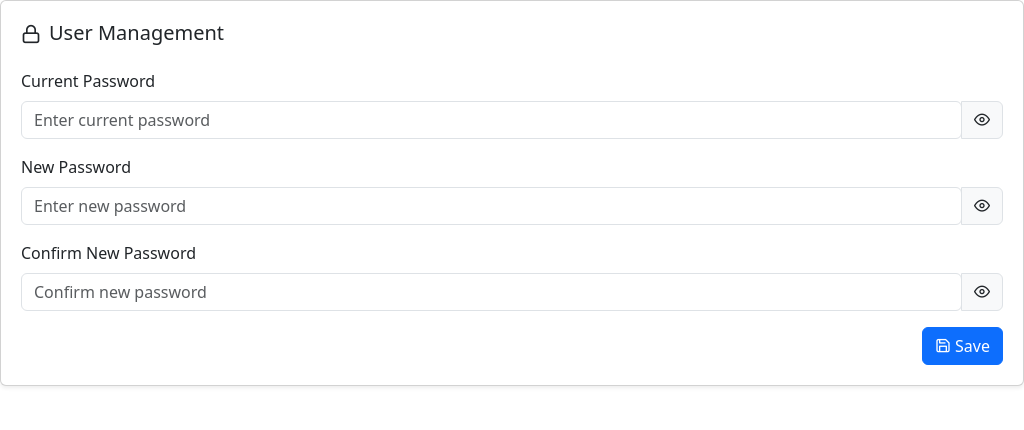
UpdateUserPasswordCard › blocks submission when the confirmation does not match the new password
Type "old-secret" into the password field labelled "Current Password".
click(492, 120); type("old-secret")  # box top-left (21, 101), bottom-right (962, 139)
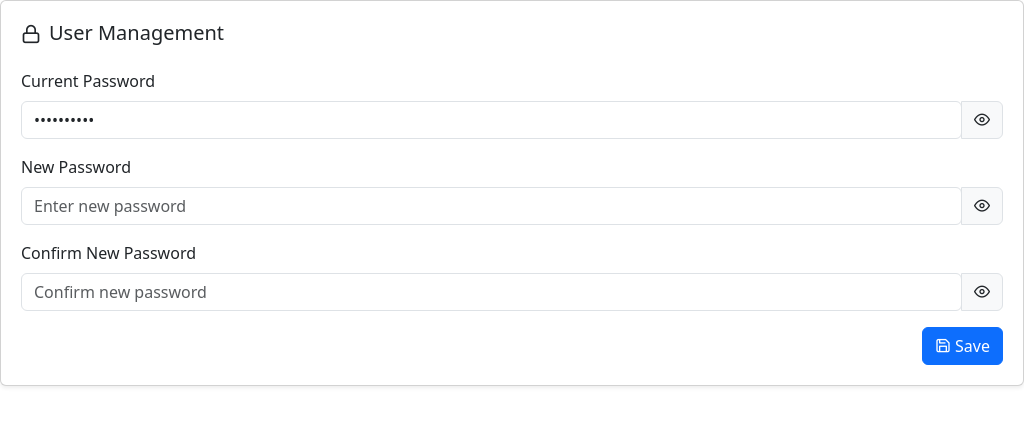
Type "new-secret" into the password field labelled "New Password".
click(492, 206); type("new-secret")  # box top-left (21, 187), bottom-right (962, 225)
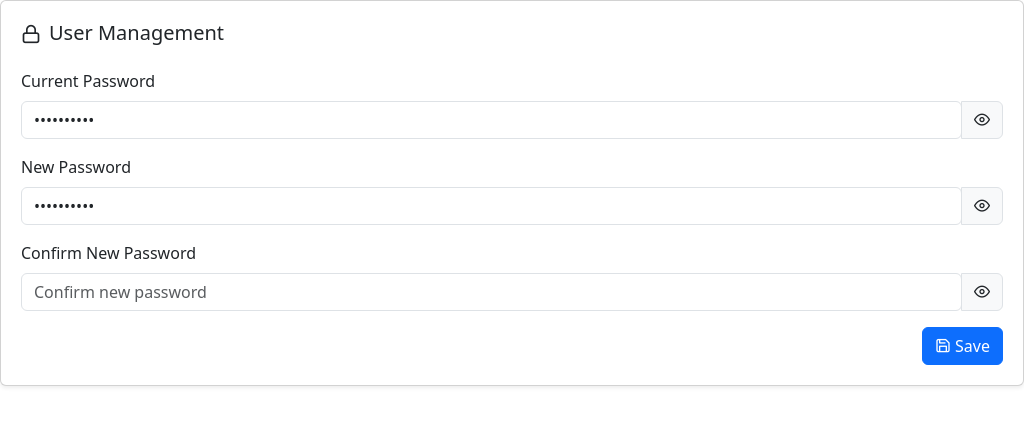
Type "something-else" into the password field labelled "Confirm New Password".
click(492, 292); type("something-else")  # box top-left (21, 273), bottom-right (962, 311)
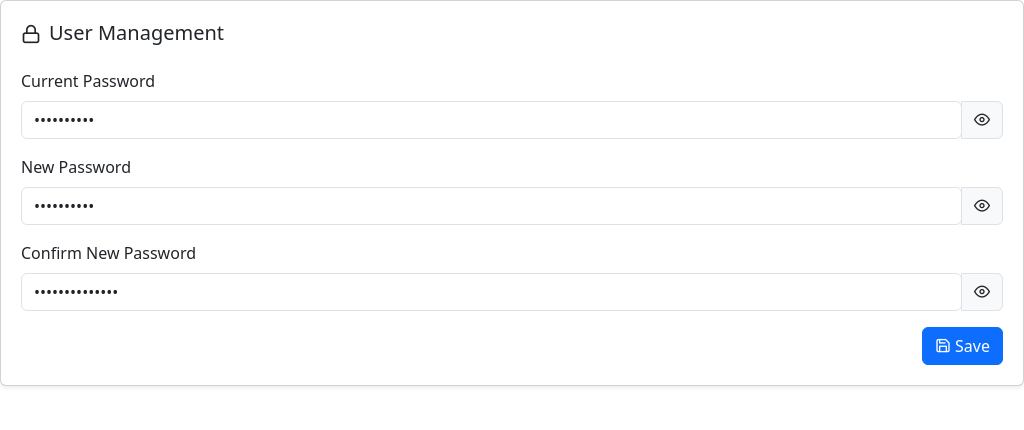
Click the button "Save".
click(963, 346)  # box top-left (922, 327), bottom-right (1003, 365)
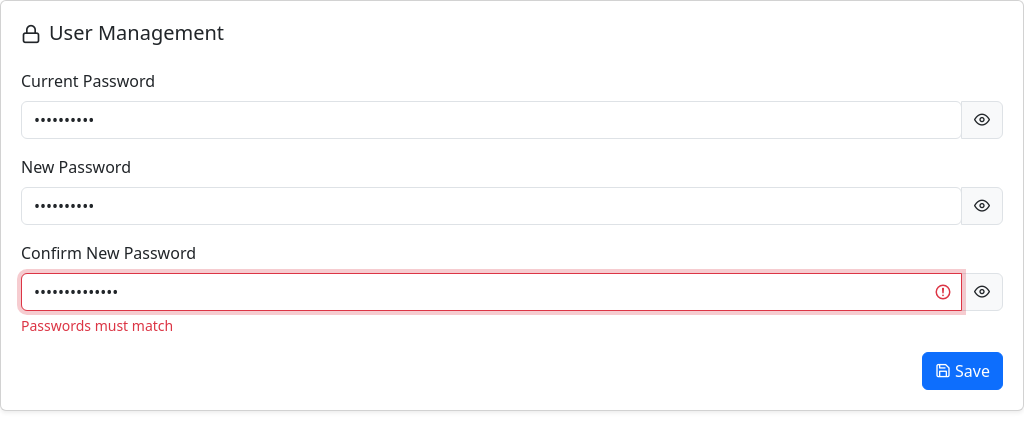
Expected: the text "Passwords must match" is shown, top-left (21, 316), bottom-right (173, 335)
